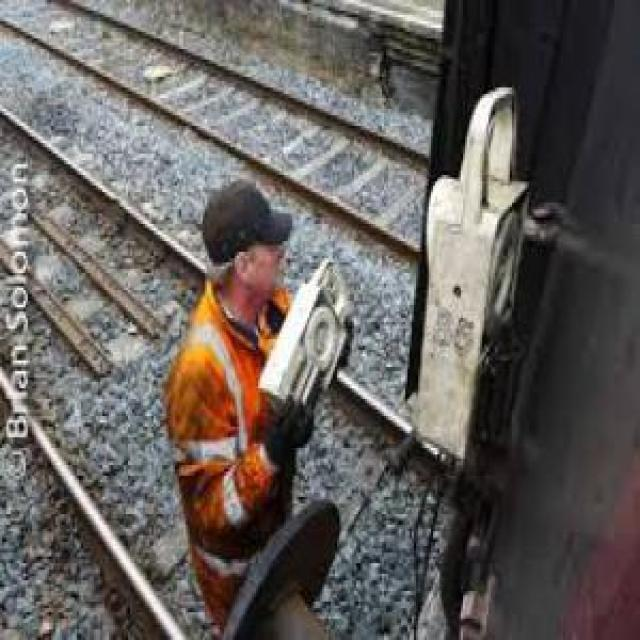rail: (1, 1, 435, 271), (1, 336, 195, 640), (1, 92, 212, 310), (348, 366, 460, 506)
